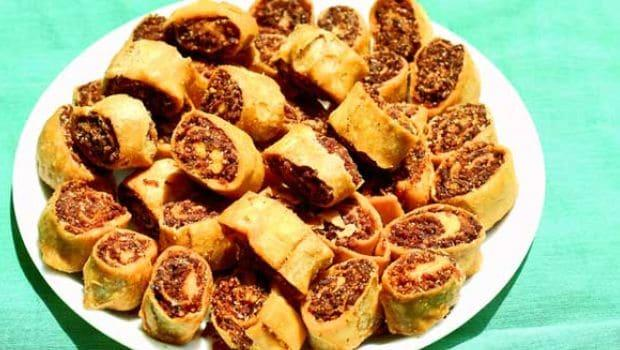bhakarwadi: (36, 0, 520, 345)
